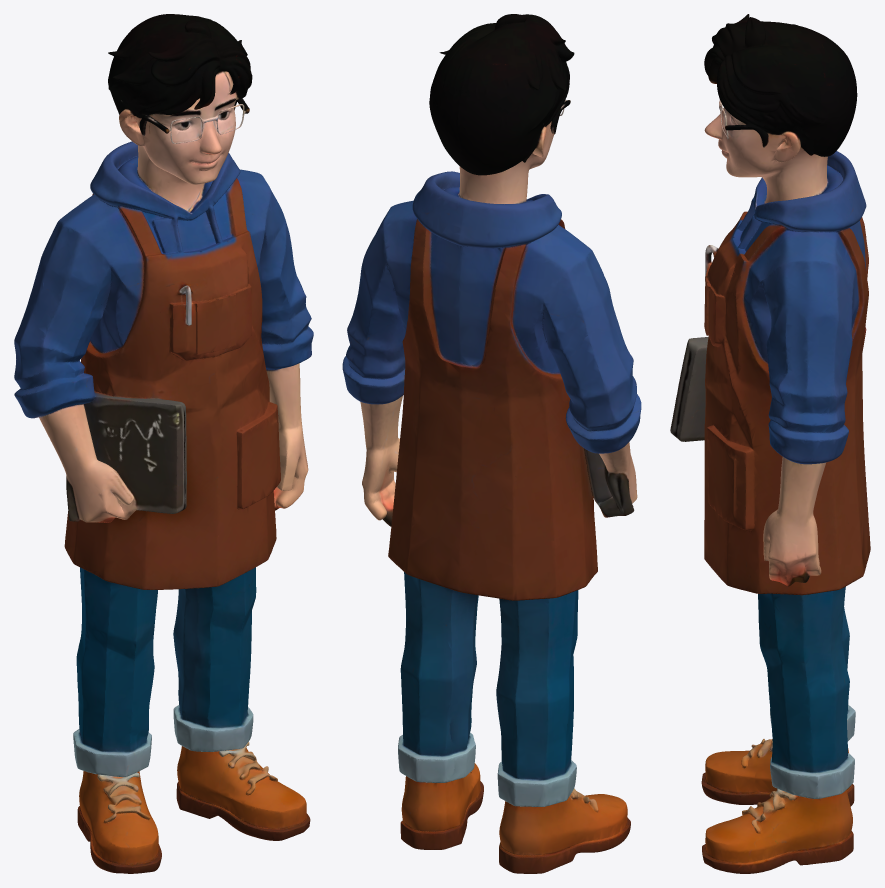
The model's file is npc_yq.glb.
The picture shows the model from 3 angles, left to right: view 1: azimuth 30°, elevation 25°; view 2: azimuth 150°, elevation 25°; view 3: azimuth 270°, elevation 25°; orthographic projection.
Visible parts, largest first — view 1: model; view 2: model; view 3: model.
Boxes of the visible parts, box(x1,y1,x2,y2) form: model: box(14, 14, 313, 873); model: box(342, 14, 641, 873); model: box(670, 14, 870, 873).
Size of the model in its own units: 0.7003 by 1.89 by 0.426.
1 material, 1 textured.
